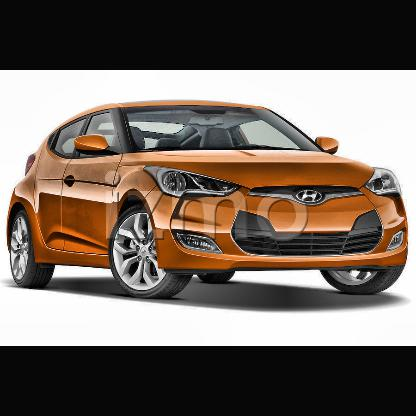Hyundai Veloster Hatchback 2012: (5, 97, 413, 303)
